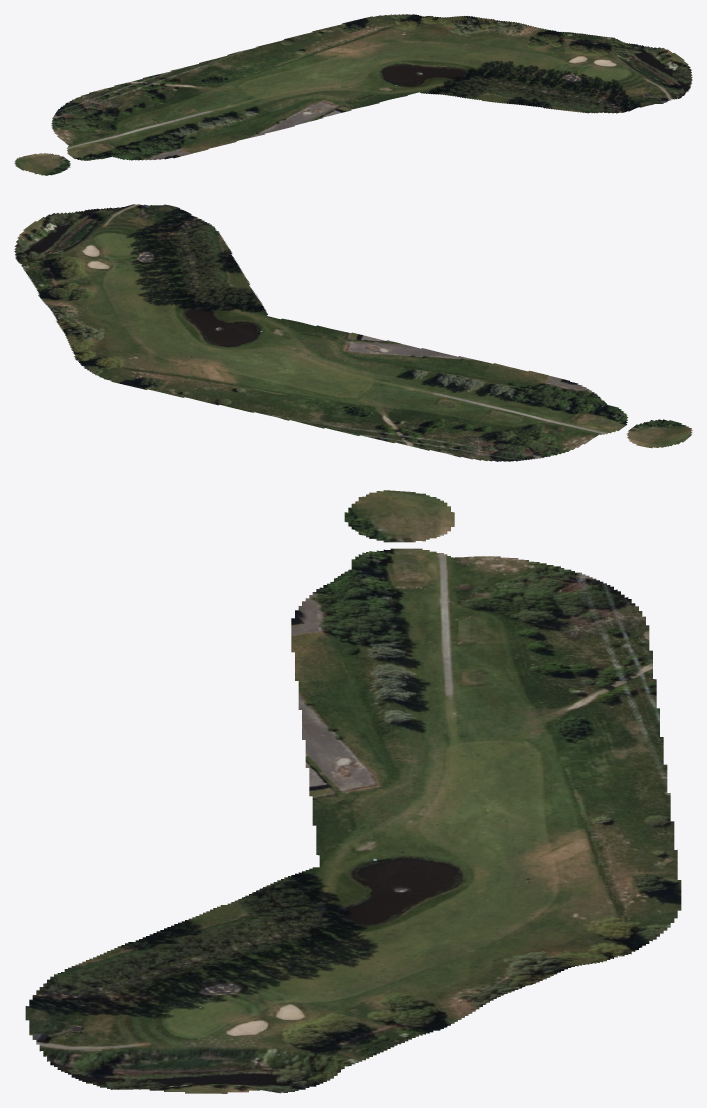
File: blue_7.glb
3 views of the same model, one above another, from view 1: azimuth 30°, elevation 25°; view 2: azimuth 150°, elevation 25°; view 3: azimuth 270°, elevation 25° (orthographic). The views are drawn at different scales.
Visible parts, largest first — view 1: ground; view 2: ground; view 3: ground.
Part boxes in pixels (x1=…): ground: x1=14, y1=14, x2=692, y2=175; ground: x1=14, y1=204, x2=692, y2=461; ground: x1=25, y1=490, x2=681, y2=1093.
Bounding box in the file's own units: 399 × 4.8 × 185.
Materials: 1 (1 with a texture image).
